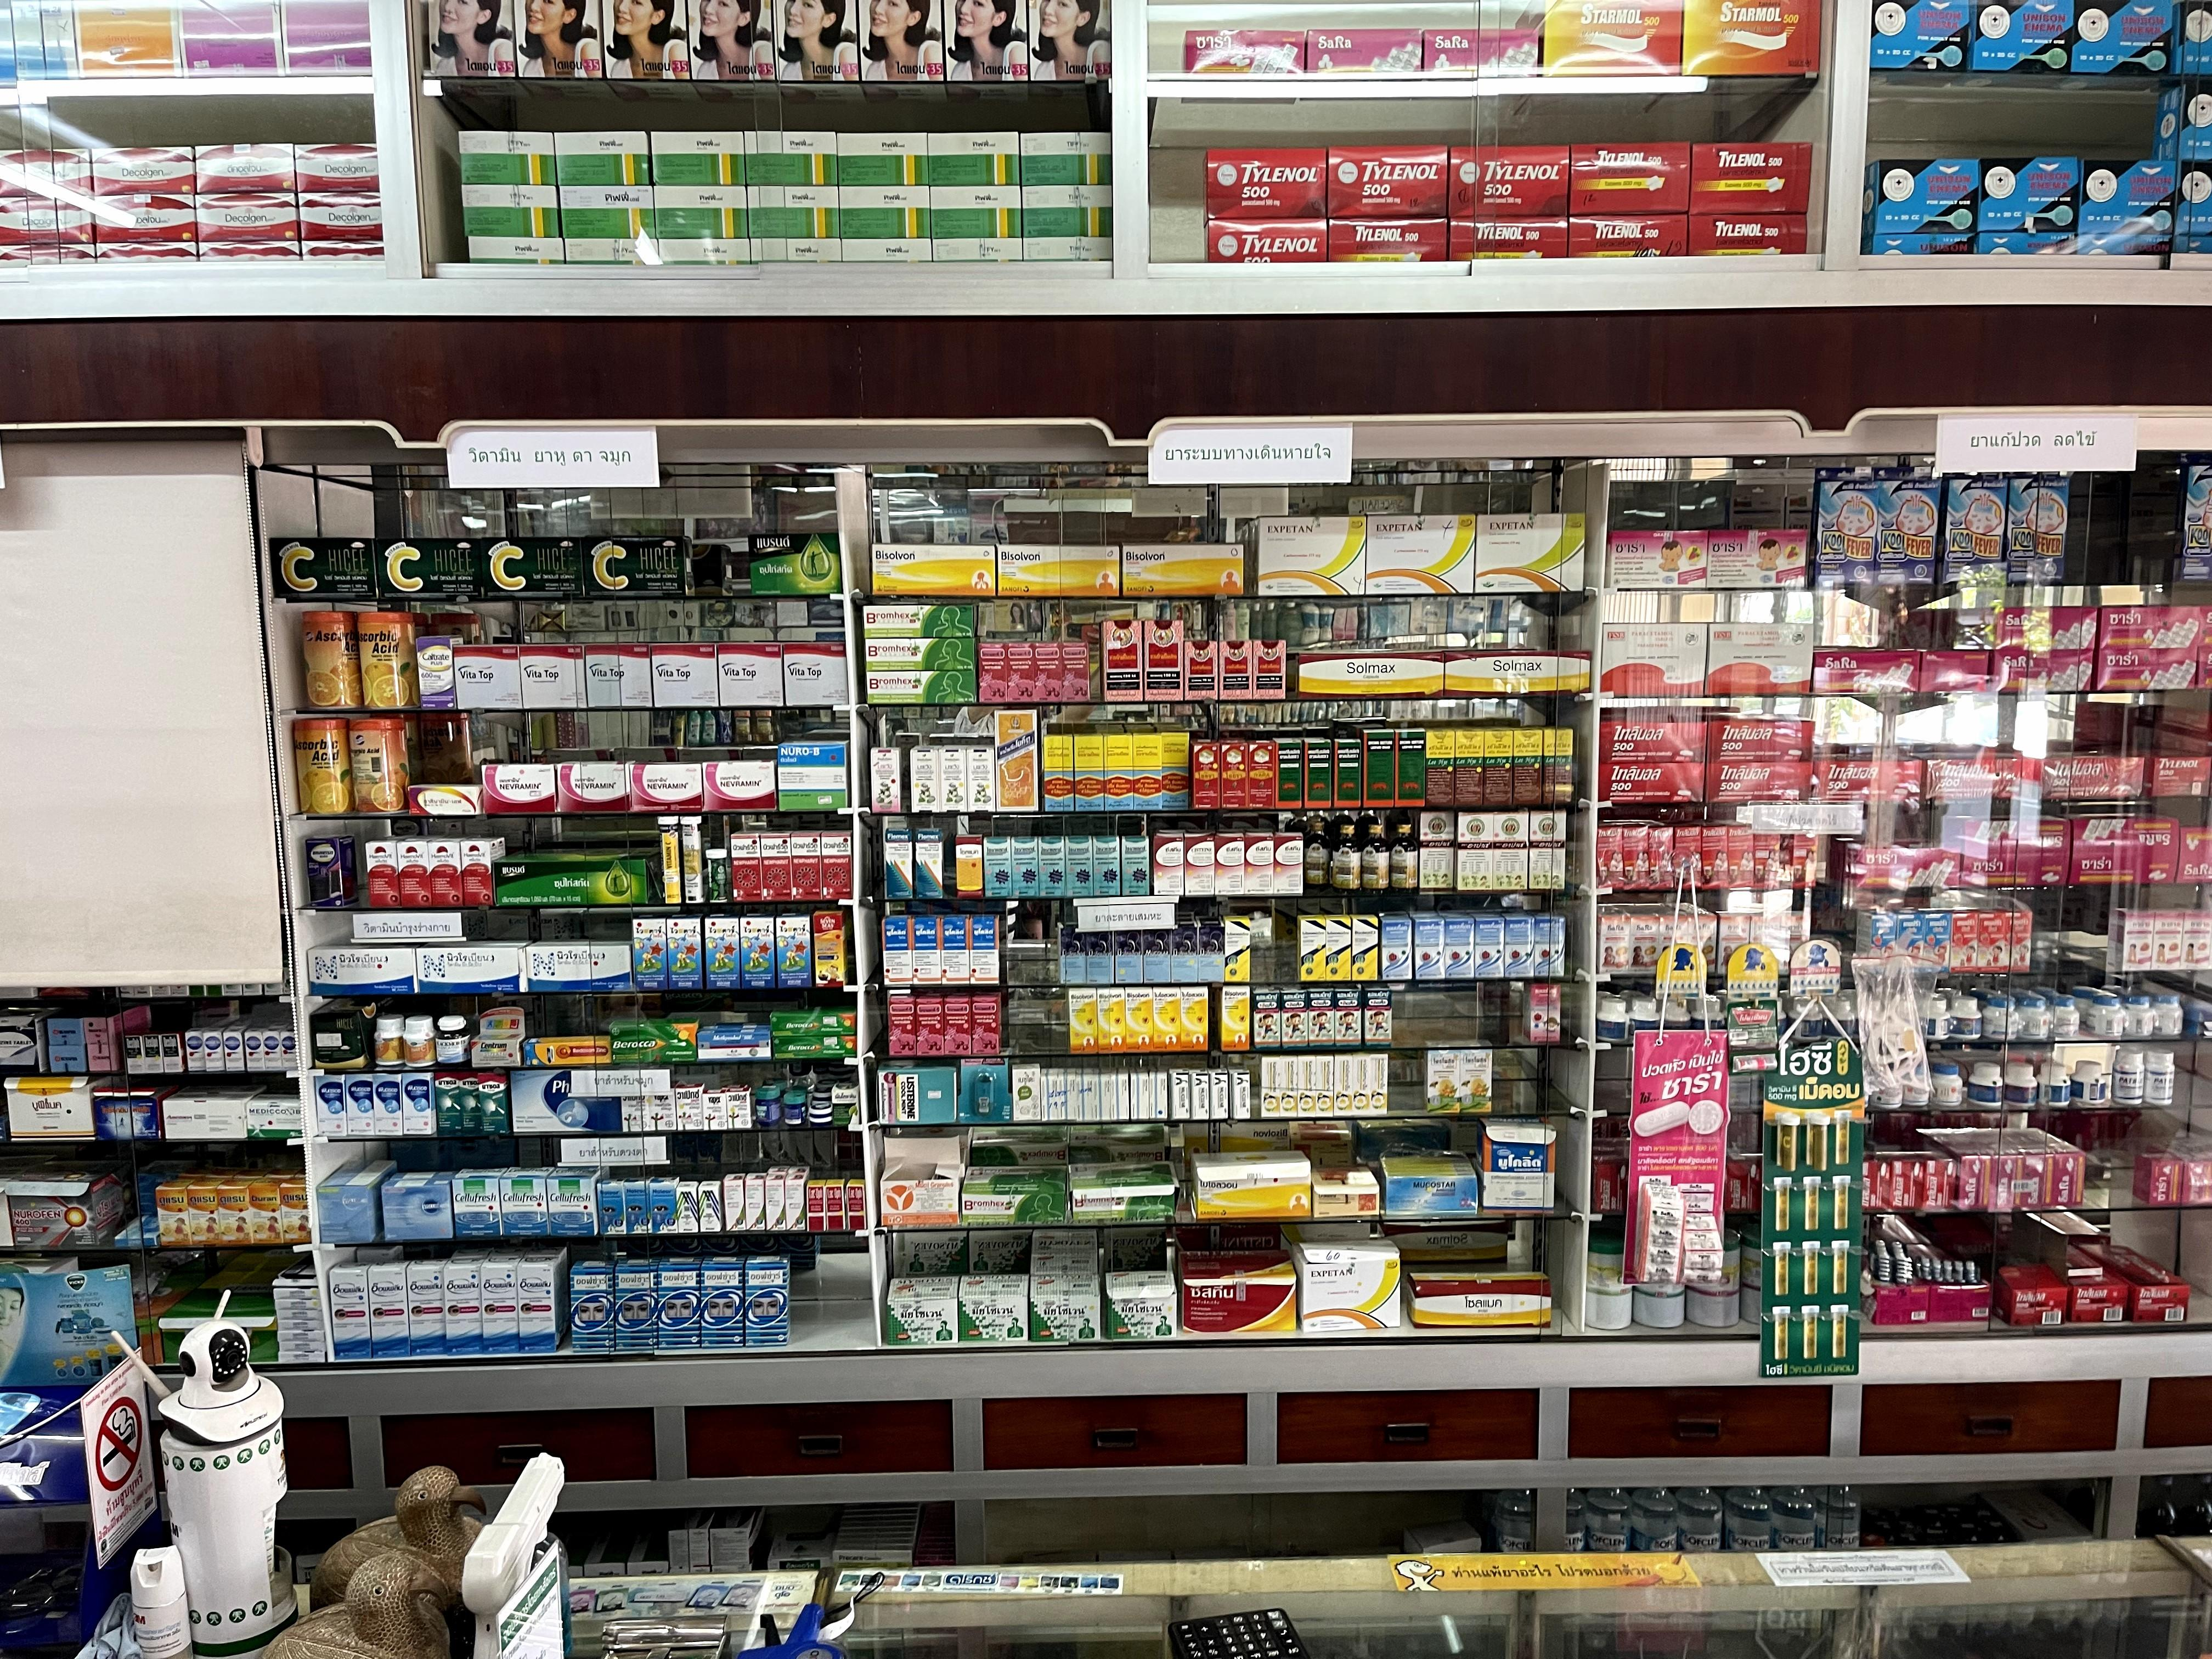Black-Tiger: (1275, 739, 1303, 809), (1303, 739, 1331, 809), (1334, 739, 1362, 807)
Black-Tiger_Big: (1362, 730, 1395, 807), (1395, 728, 1425, 807)
Cisteine: (1271, 831, 1303, 896), (1183, 833, 1214, 896), (1214, 833, 1244, 896), (1244, 833, 1273, 896), (1153, 835, 1183, 894)
Cisteine_Box: (1179, 1251, 1298, 1331)
Heamovit: (428, 838, 463, 908), (460, 838, 495, 908), (366, 840, 401, 908), (397, 840, 432, 906)
Iyara: (1219, 741, 1249, 809), (1191, 739, 1219, 810), (1247, 741, 1273, 809)
Lac-Oph_Red: (824, 1180, 846, 1230), (846, 1180, 866, 1230), (808, 1180, 826, 1230)
Ma-Kham-Pom: (1043, 734, 1075, 812), (1073, 734, 1104, 810), (1132, 734, 1162, 810), (1104, 734, 1132, 812), (1162, 732, 1190, 809)
Ma-Kham-Pom_Bottle: (1303, 823, 1332, 887), (1360, 824, 1390, 889), (1390, 824, 1418, 890), (1334, 824, 1360, 889)
Ma-Vaeng_Light: (871, 748, 902, 812)
Ma-Vaeng_Syrup: (967, 744, 996, 812), (911, 746, 941, 812), (939, 746, 968, 812)
Muclear: (1230, 1070, 1251, 1119), (1170, 1072, 1190, 1119), (1190, 1072, 1209, 1119), (1211, 1072, 1228, 1119)
Mucolax: (1141, 920, 1170, 985), (1085, 922, 1115, 983), (1115, 922, 1144, 983), (1170, 920, 1198, 981), (1198, 918, 1224, 981), (1059, 922, 1085, 983)
Nac-Long: (1092, 1073, 1111, 1121), (1150, 1072, 1169, 1119), (1130, 1073, 1150, 1119), (1057, 1072, 1075, 1121), (1075, 1073, 1092, 1121), (1111, 1073, 1129, 1121), (1042, 1073, 1057, 1121)
NatC: (404, 1016, 435, 1066), (374, 1014, 404, 1065)
Nevramin: (557, 762, 632, 812), (482, 763, 557, 812), (702, 762, 777, 810), (631, 762, 702, 812)
Newpharvit: (820, 833, 853, 899), (732, 833, 763, 901), (791, 831, 822, 899), (761, 833, 792, 899)
Opplin: (329, 1263, 373, 1359), (517, 1258, 559, 1354), (369, 1263, 411, 1358), (408, 1260, 446, 1356), (446, 1260, 484, 1354), (481, 1260, 519, 1354)
Opsar: (744, 1256, 791, 1345), (571, 1262, 615, 1352), (615, 1260, 658, 1351), (658, 1258, 702, 1349), (700, 1258, 744, 1347)
Pei-Pa-Koa: (1217, 641, 1254, 699), (1184, 640, 1217, 701), (1252, 640, 1285, 697), (1284, 697, 1285, 699)
Pei-Pa-Koa_Big: (1101, 620, 1143, 702), (1144, 620, 1184, 699)
Rhinalax: (982, 835, 1012, 897), (1120, 836, 1150, 896), (1090, 835, 1118, 896), (1062, 836, 1090, 896), (1012, 836, 1038, 896), (1038, 836, 1062, 896)
Rhinalax-B: (977, 643, 1007, 702), (972, 995, 1001, 1054), (1007, 643, 1035, 702), (1033, 643, 1061, 702), (1061, 643, 1089, 702), (888, 997, 916, 1056), (916, 995, 944, 1054), (944, 995, 970, 1053)
Solmax: (956, 835, 982, 897)
Solmax-Capsule: (1409, 1272, 1552, 1330), (1298, 652, 1446, 699), (1444, 650, 1588, 695)
VapoRub_Big: (754, 1086, 782, 1124)
VapoRub_Mid: (784, 1093, 806, 1124)
VapoRub_Small: (810, 1115, 833, 1127), (812, 1087, 833, 1100), (810, 1105, 833, 1115), (815, 1079, 840, 1087)
Vislube20: (383, 1180, 455, 1239), (388, 1171, 455, 1180)
Vislube60: (319, 1161, 397, 1239)
